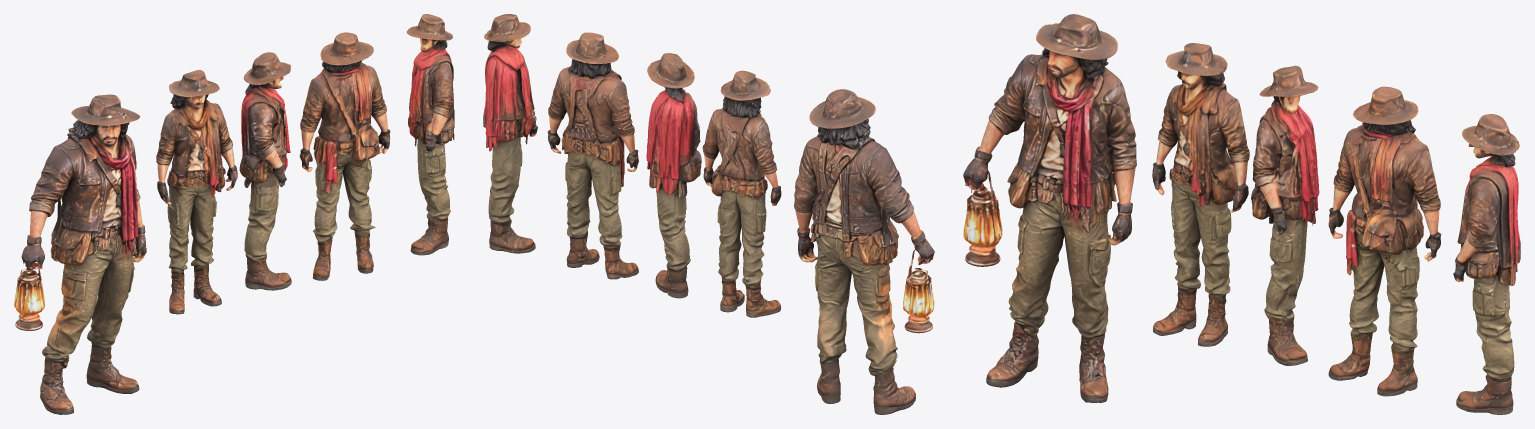
File: base_basic_shaded.glb
The picture shows the model from 3 angles, left to right: view 1: azimuth 30°, elevation 25°; view 2: azimuth 150°, elevation 25°; view 3: azimuth 330°, elevation 25°; orthographic projection. The views are drawn at different scales.
Visible parts, largest first — view 1: model; view 2: model; view 3: model.
Part boxes in pixels (x1,y1,x2,y2): model: (14, 14, 454, 414); model: (483, 14, 934, 414); model: (963, 14, 1520, 414).
Bounding box in the file's own units: 1.81 × 1.17 × 0.2409.
1 material, 1 textured.
